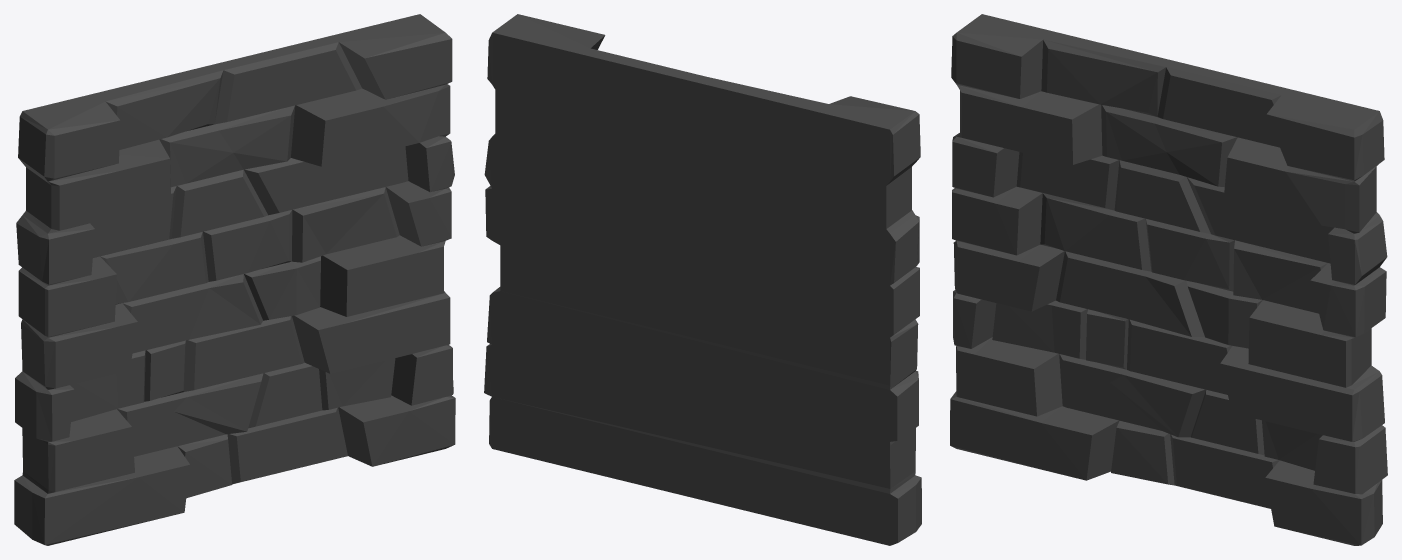
The model's file is Wall_Indent.fbx.
3 views of the same model, side by side, from view 1: azimuth 30°, elevation 25°; view 2: azimuth 150°, elevation 25°; view 3: azimuth 330°, elevation 25° (orthographic).
Visible parts, largest first — view 1: Wall_Indent; view 2: Wall_Indent; view 3: Wall_Indent.
Part boxes in pixels (x1=…): Wall_Indent: x1=14, y1=14, x2=455, y2=545; Wall_Indent: x1=484, y1=14, x2=921, y2=545; Wall_Indent: x1=950, y1=14, x2=1387, y2=545.
Size of the model in its own units: 838 by 800 by 102.
1 material, 1 textured.
